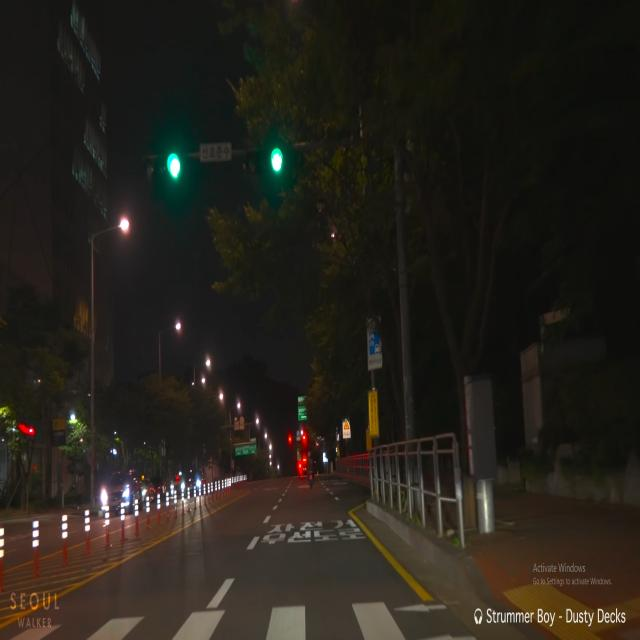headlights: (97, 486, 132, 511), (180, 476, 206, 496)
